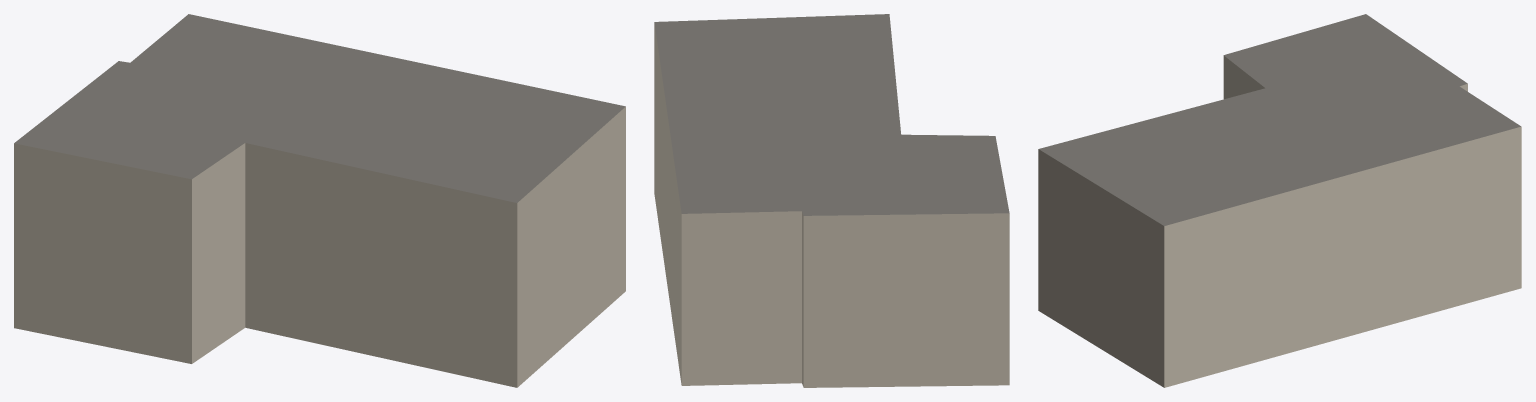
The picture shows the model from 3 angles, left to right: view 1: azimuth 30°, elevation 25°; view 2: azimuth 150°, elevation 25°; view 3: azimuth 270°, elevation 25°; orthographic projection. The views are drawn at different scales.
Visible parts, largest first — view 1: HP-w1512359763; view 2: HP-w1512359763; view 3: HP-w1512359763.
Boxes of the visible parts, x1,y1,x2,y2 form: HP-w1512359763: (14,14,625,387); HP-w1512359763: (654,14,1009,387); HP-w1512359763: (1038,14,1521,387).
Size of the model in its own units: 50.62 by 18 by 48.71.
